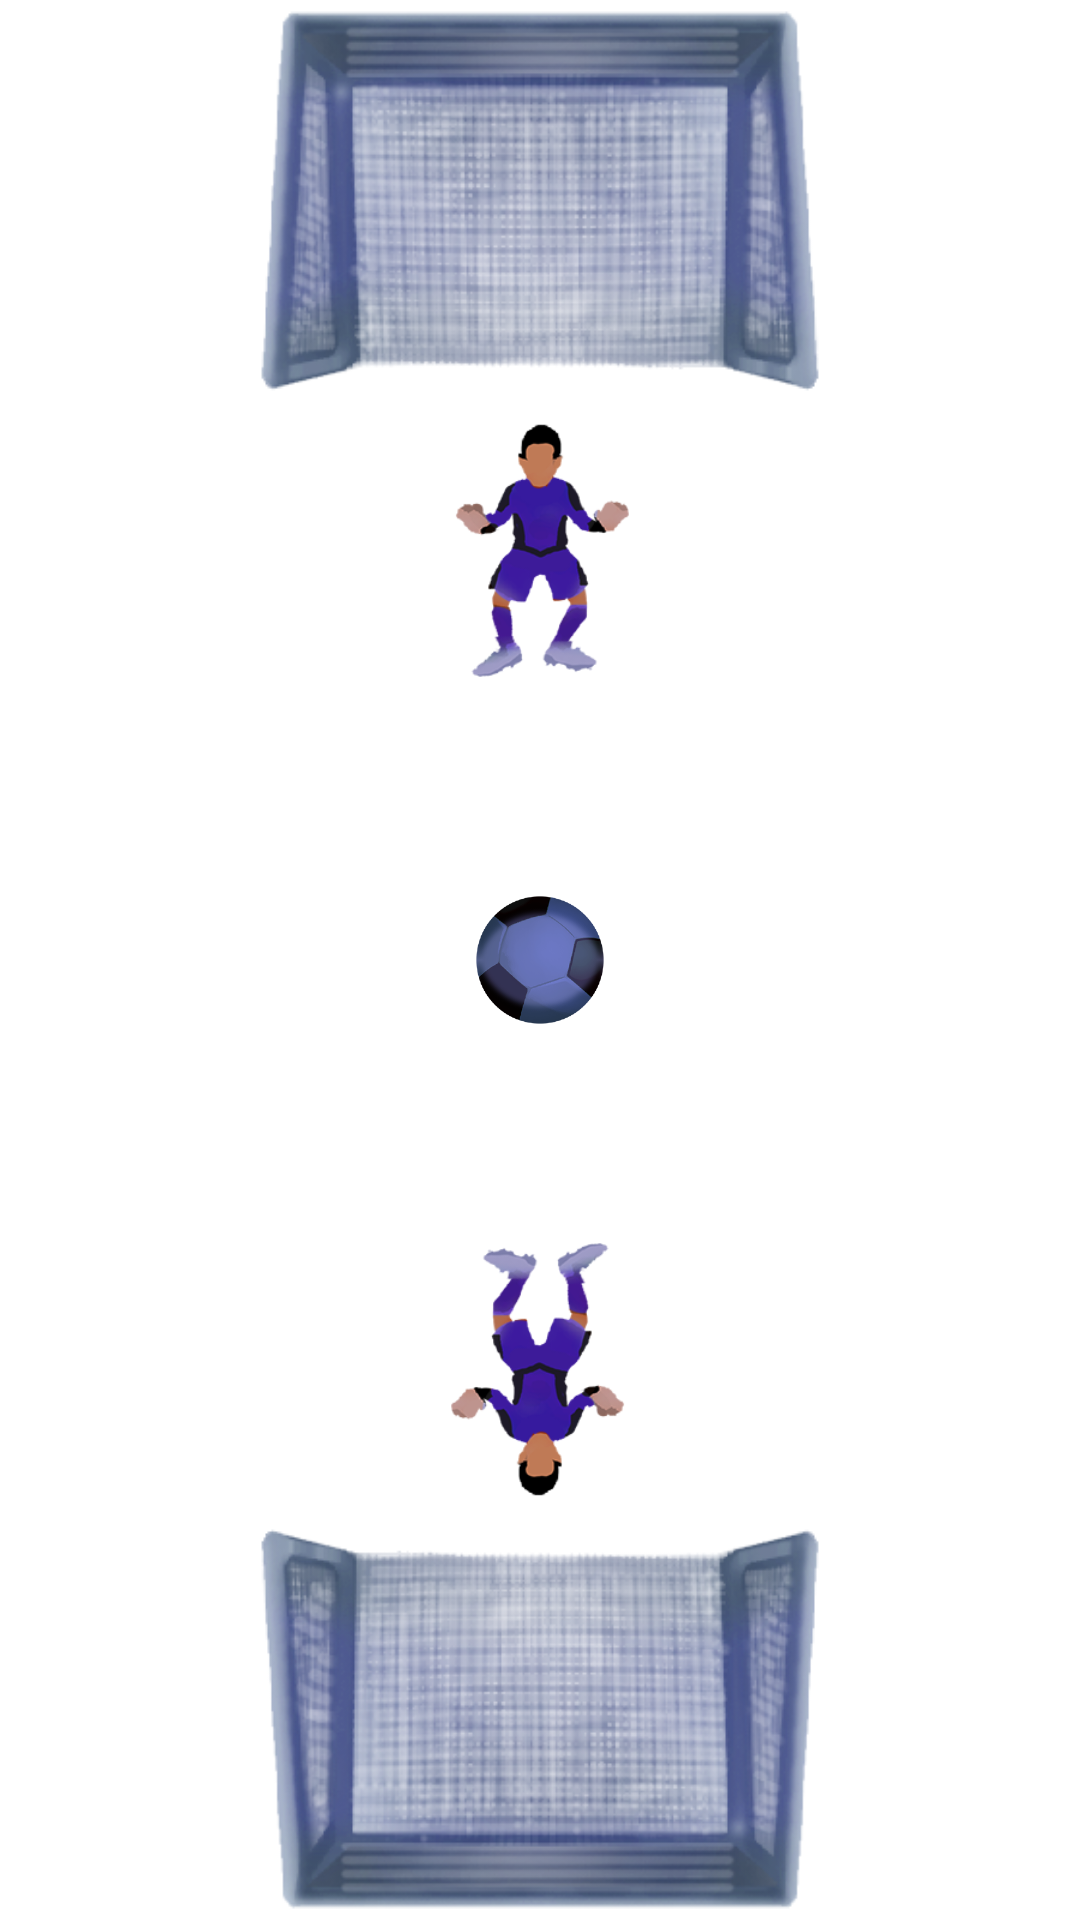

Point at icon controls on the screen. Image size 1080 x 1920, points as point (x, y).
myach: point (540, 960)
